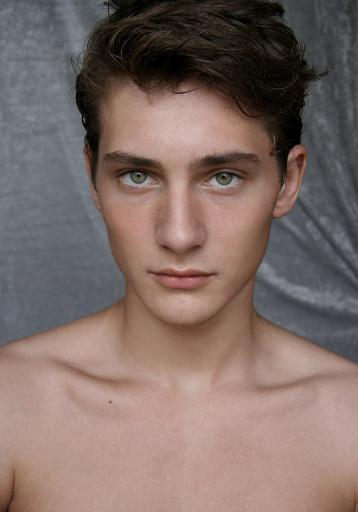left_eye: (201, 169, 252, 196)
left_lip_corner: (209, 269, 221, 284)
right_eye: (114, 167, 163, 195)
right_lip_corner: (146, 268, 158, 283)
